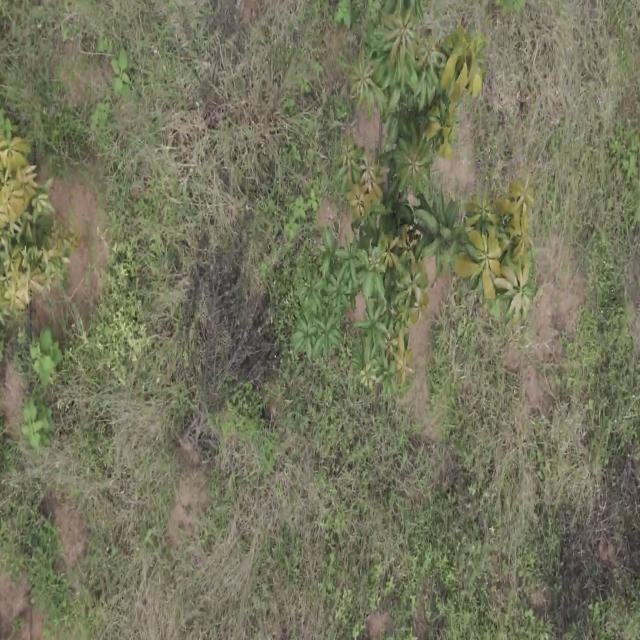mangoTree: (289, 0, 533, 394), (0, 107, 79, 327)
